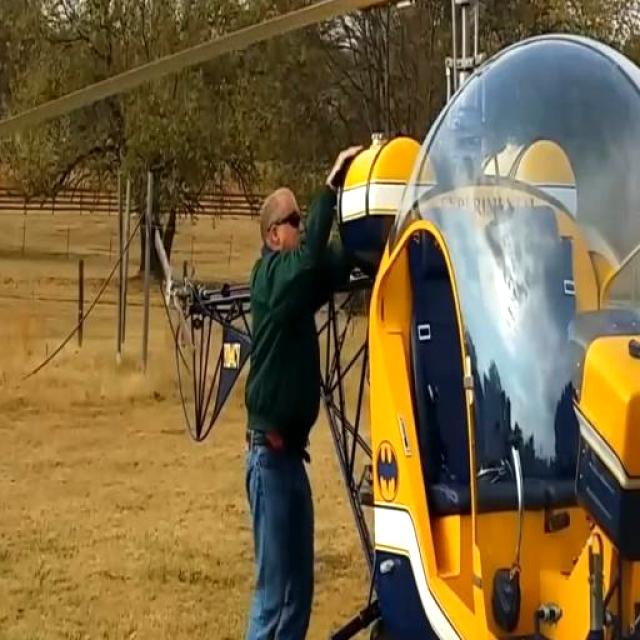drone: (314, 0, 640, 640)
